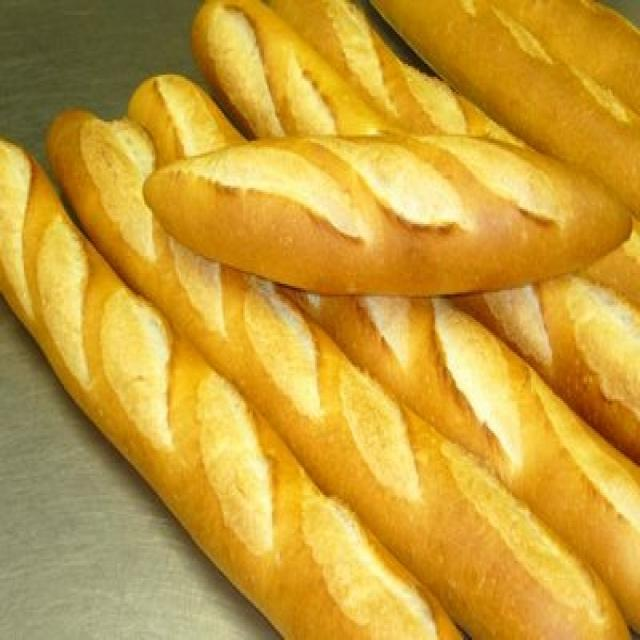面包点心: (9, 7, 634, 614)
